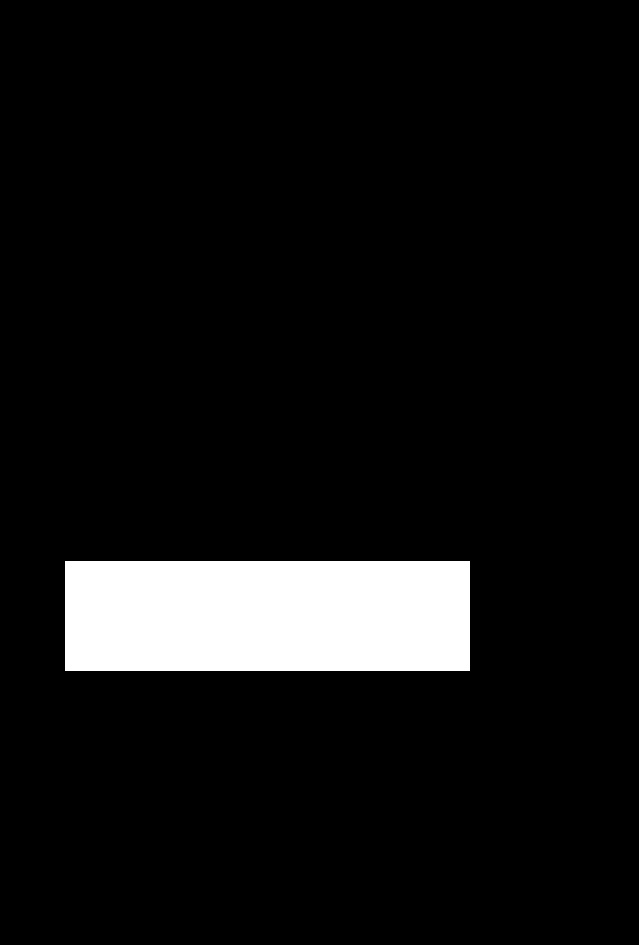table: (65, 561, 469, 670)
